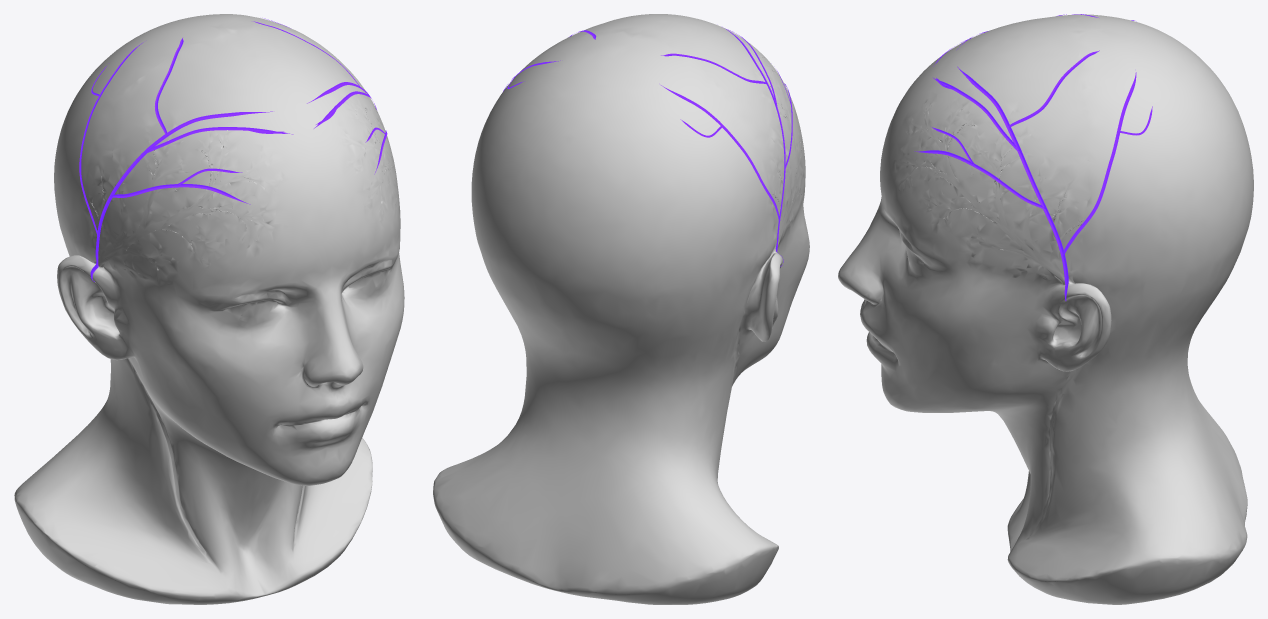
The model's file is cymba-mannequin-engraved-mobile.glb.
3 renders of one model, left to right at view 1: azimuth 30°, elevation 25°; view 2: azimuth 150°, elevation 25°; view 3: azimuth 270°, elevation 25°, orthographic. The views are drawn at different scales.
Visible parts, largest first — view 1: Cymba_Marble_Mannequin, Purple_Surface_Nerve_Fibres; view 2: Cymba_Marble_Mannequin, Purple_Surface_Nerve_Fibres; view 3: Cymba_Marble_Mannequin, Purple_Surface_Nerve_Fibres.
Part boxes in pixels (bbox=[...]): Cymba_Marble_Mannequin: bbox=[14, 14, 404, 604]; Purple_Surface_Nerve_Fibres: bbox=[79, 18, 387, 281]; Cymba_Marble_Mannequin: bbox=[433, 14, 809, 604]; Purple_Surface_Nerve_Fibres: bbox=[503, 28, 792, 266]; Cymba_Marble_Mannequin: bbox=[838, 14, 1253, 604]; Purple_Surface_Nerve_Fibres: bbox=[914, 14, 1152, 300].
Size of the model in its own units: 2.74 by 4.27 by 3.05.
